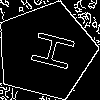H: (21, 26, 76, 73)
